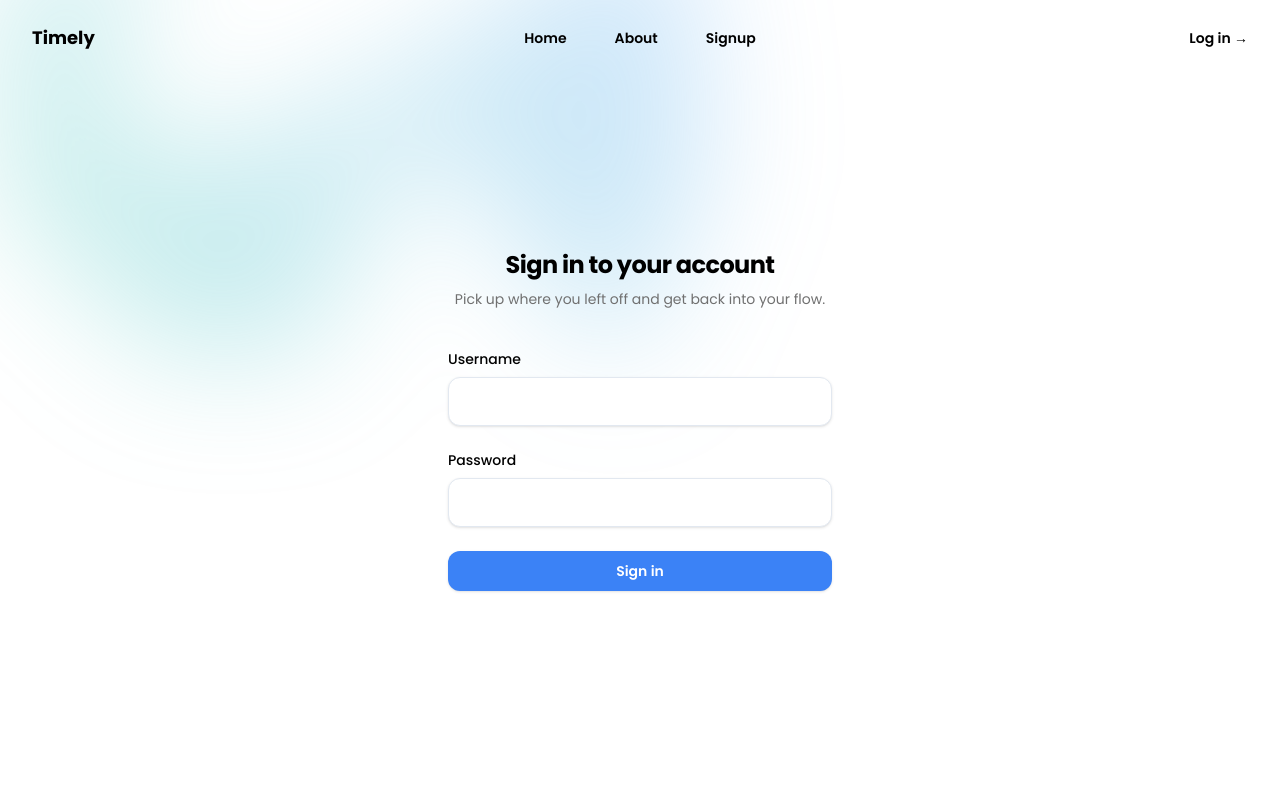
Login page › shows error when login fails
Type "bob" into the field labelled "Username" at x=640, y=402, box [448,377,832,426]
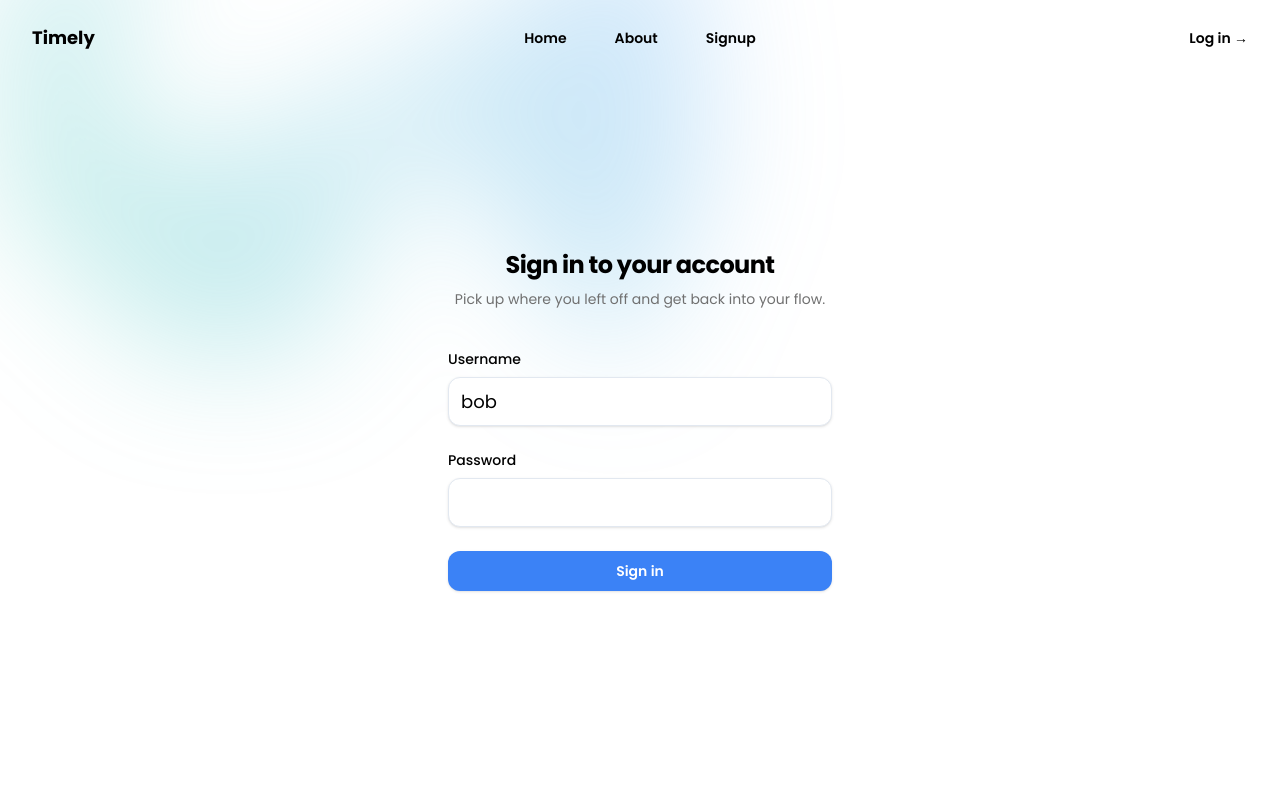
Type "wrong" into the password field labelled "Password" at x=640, y=502, box [448,478,832,527]
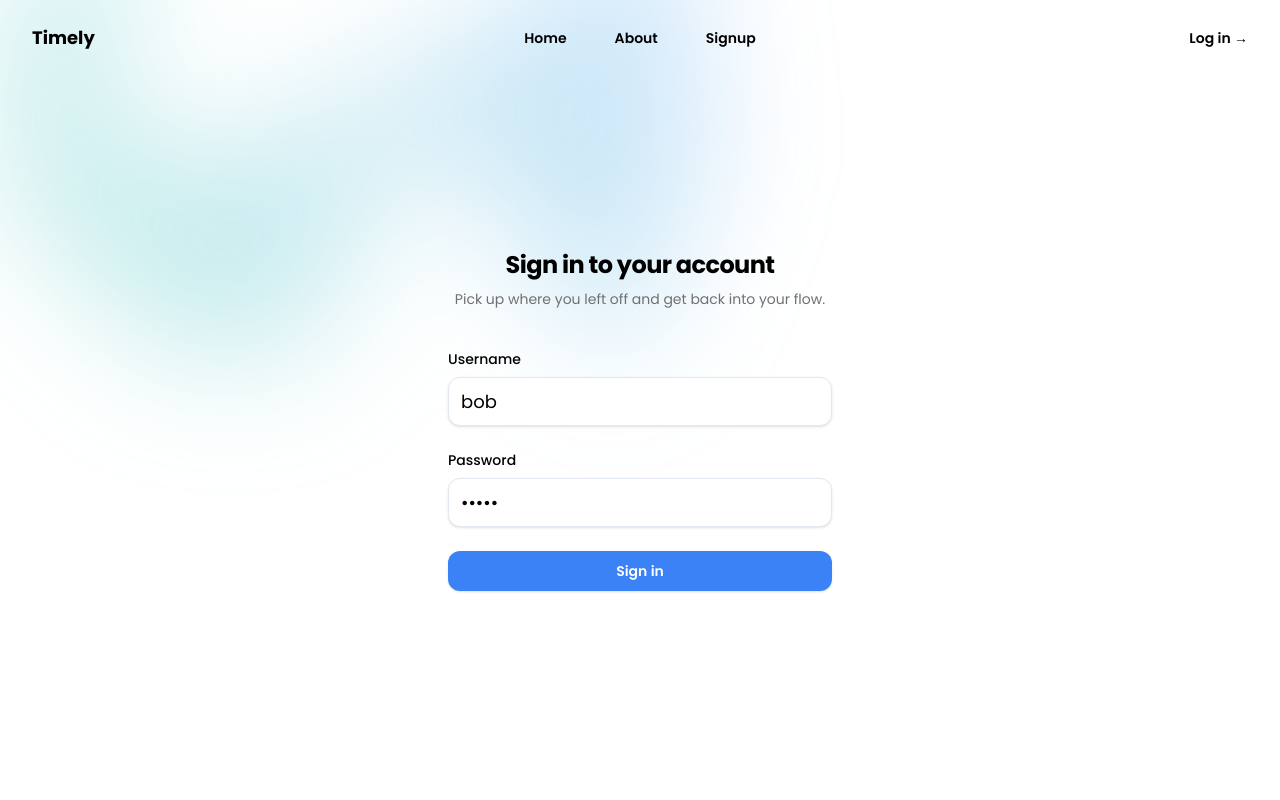
Click the button "Sign in" at x=640, y=571, box [448,551,832,591]
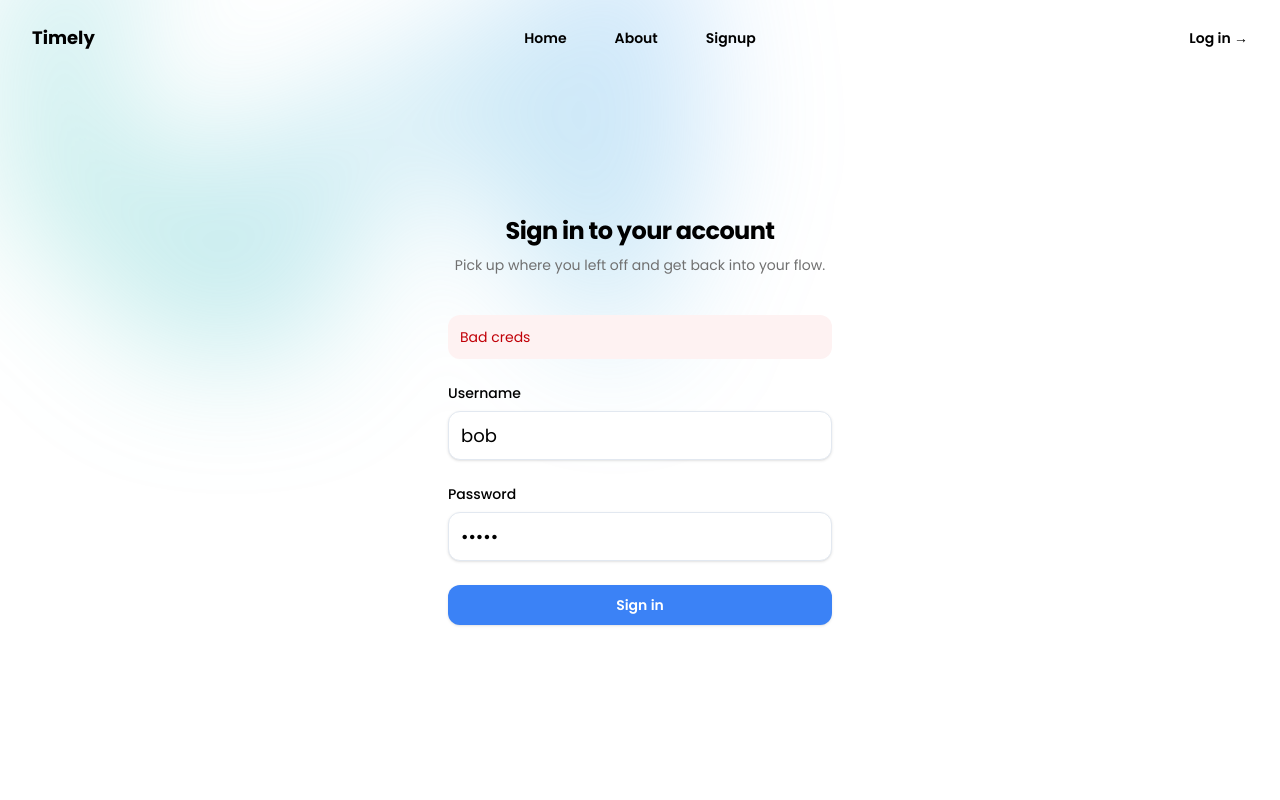
Expected: the text "Bad creds" is shown, [448,315,832,359]
